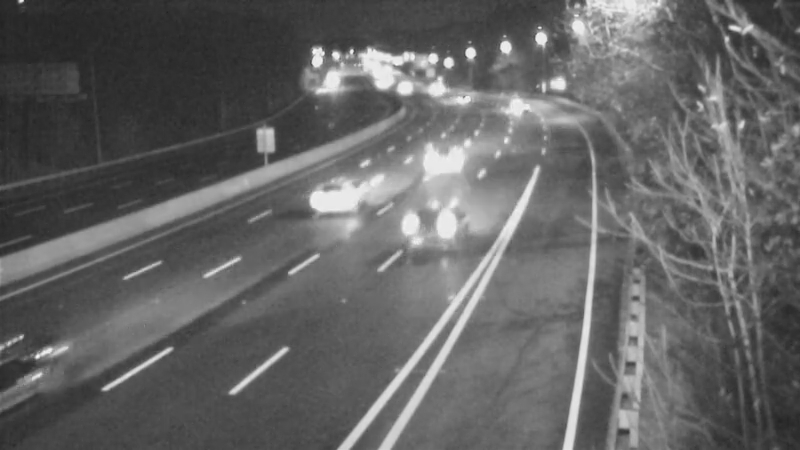vehicle: (1, 322, 93, 432), (406, 120, 486, 200), (294, 159, 374, 239), (399, 188, 479, 268), (436, 75, 486, 125), (499, 80, 549, 130)
